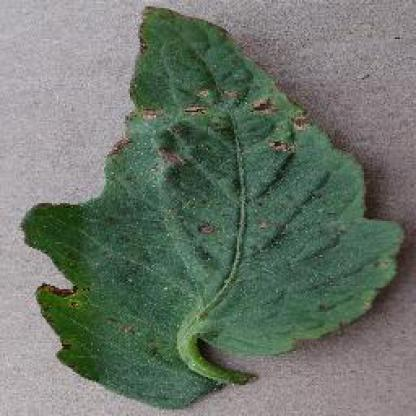bad leaf: (33, 18, 394, 402)
